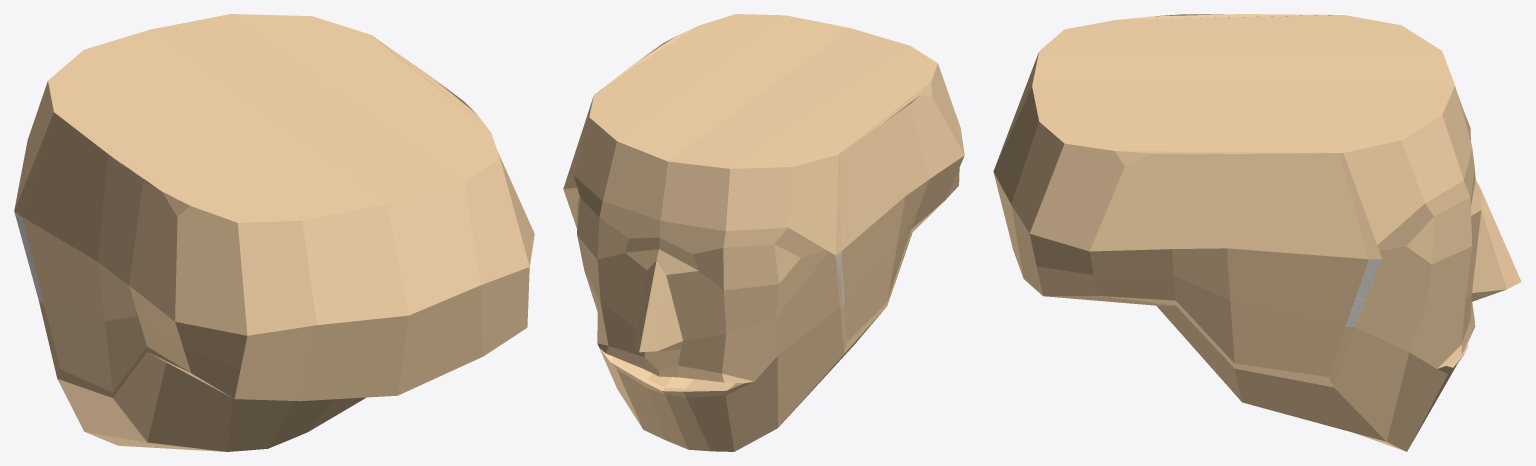
File: LeHead2.fbx
3 renders of one model, left to right at view 1: azimuth 30°, elevation 25°; view 2: azimuth 150°, elevation 25°; view 3: azimuth 270°, elevation 25°, orthographic. The views are drawn at different scales.
Visible parts, largest first — view 1: Cube; view 2: Cube; view 3: Cube.
Part boxes in pixels (x1,y1,x2,y2): Cube: (14, 14, 534, 451); Cube: (563, 14, 964, 451); Cube: (993, 14, 1521, 451).
Bounding box in the file's own units: 155 × 163 × 221.
